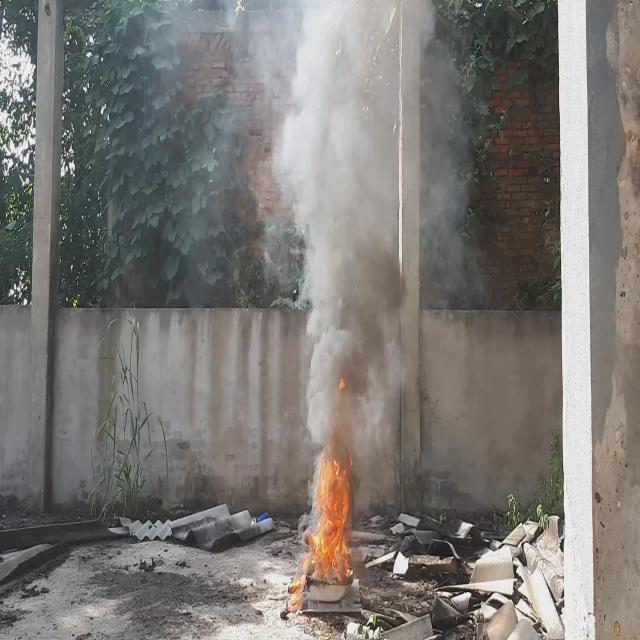Fire: (302, 444, 356, 586)
Smoke: (219, 0, 472, 481)
